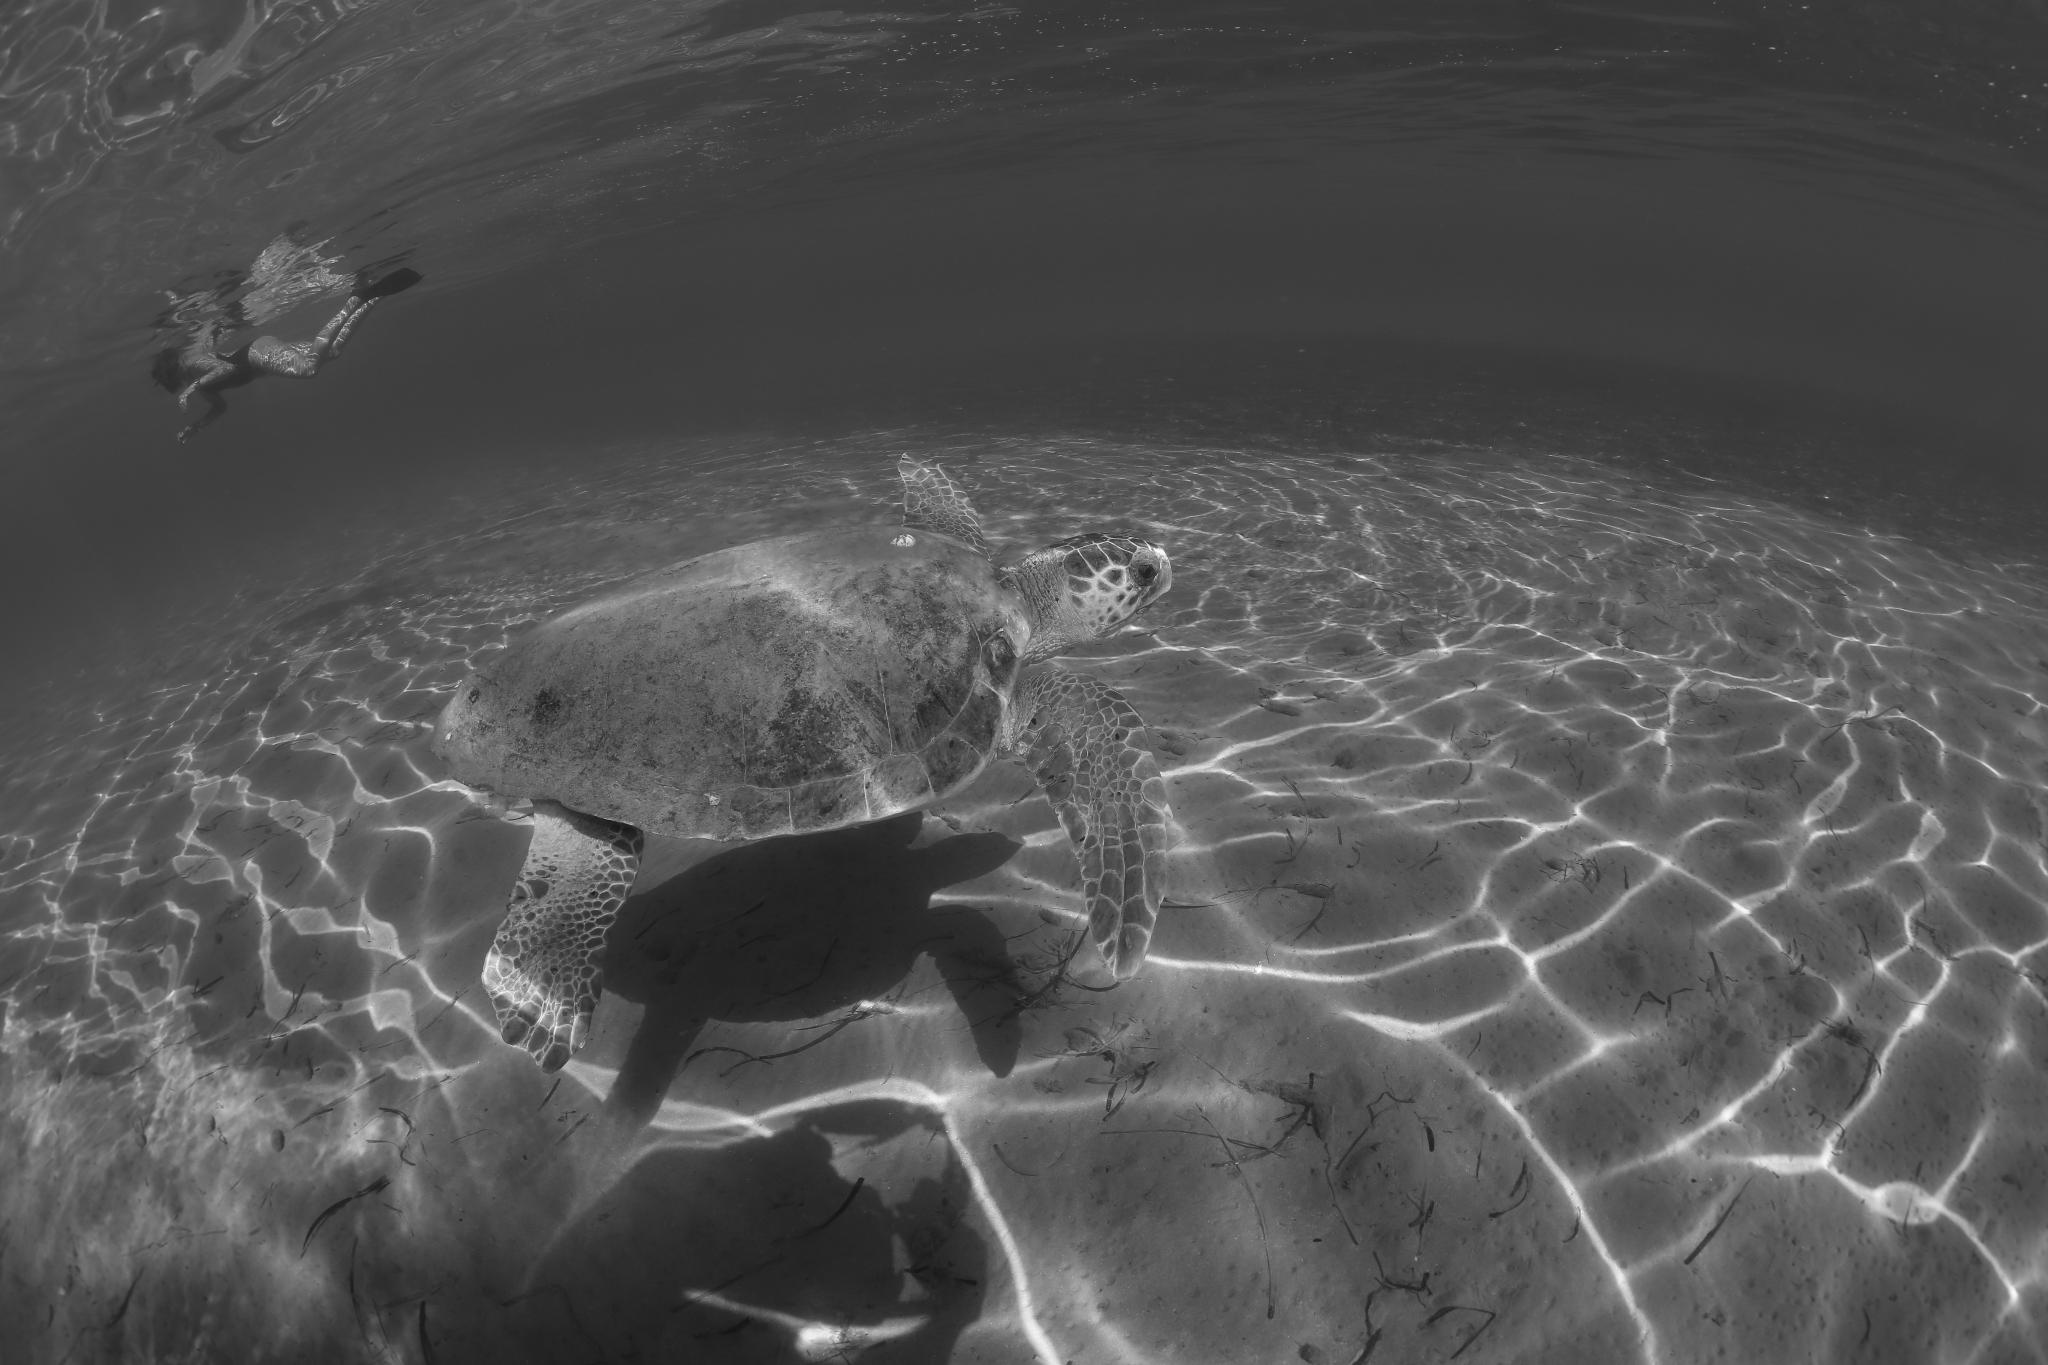Head: (995, 534, 1172, 664)
